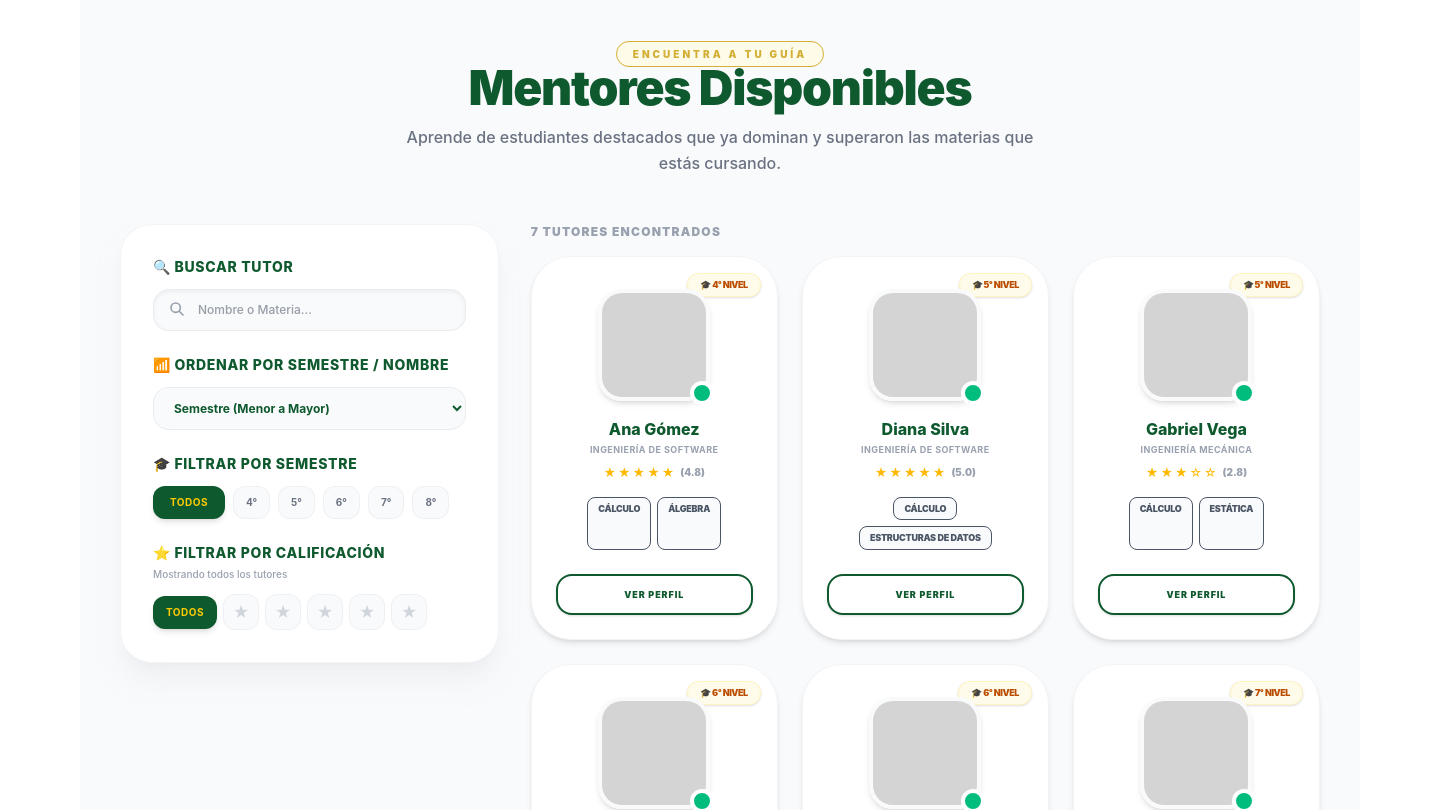
it: BuscarTutor Page Tests › filtra por semestre
Expected: the heading "Ana Gómez" is shown, [609,417,700,441]
Click on 7° level button
Click the button "7°" at (386, 502), box [368,486,404,519]
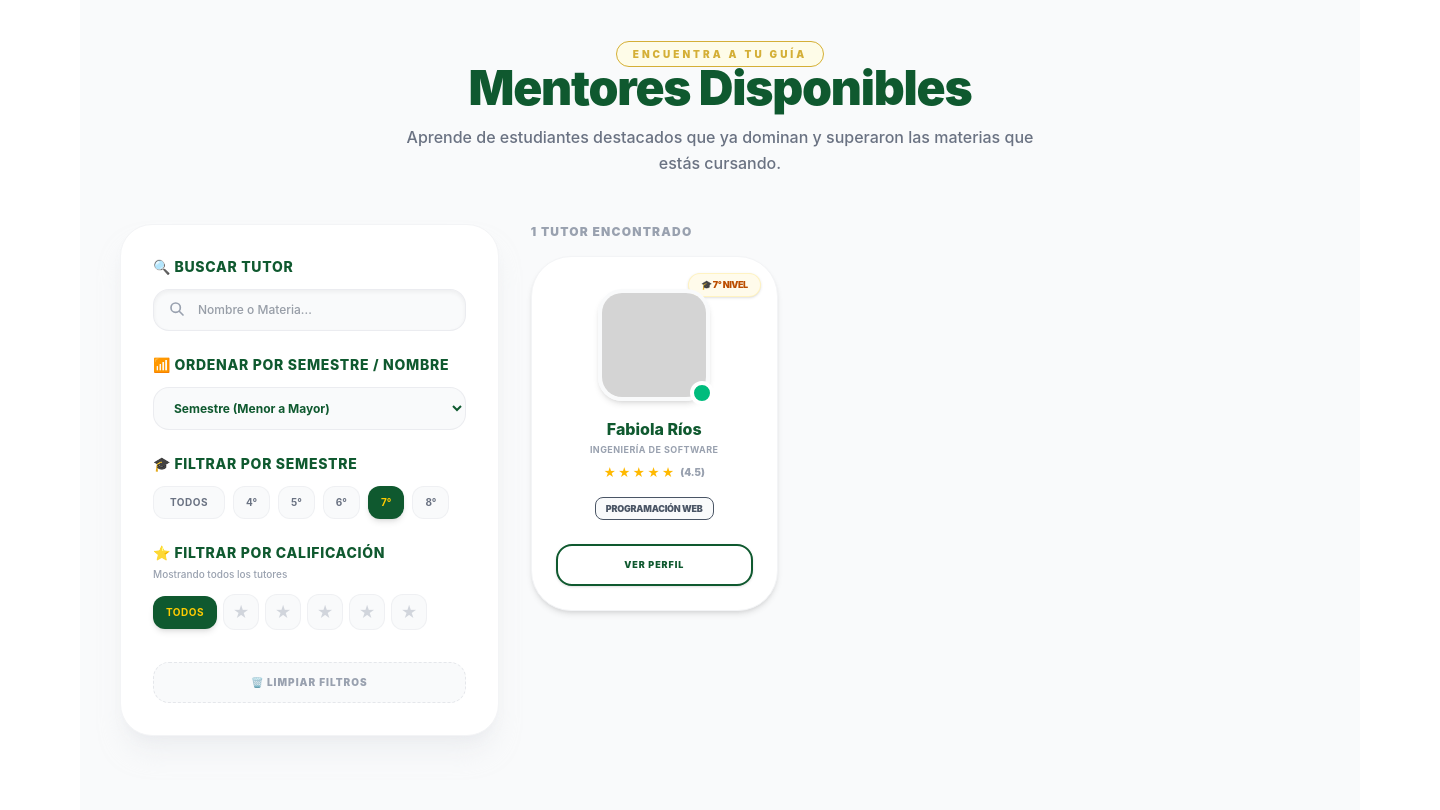
Expected: the heading "Fabiola Ríos" is shown, [607,417,702,441]
Expected: the heading "Ana Gómez" is gone
Click the button "Todos" below "🎓 Filtrar por Semestre" at (189, 502), box [153,486,225,519]
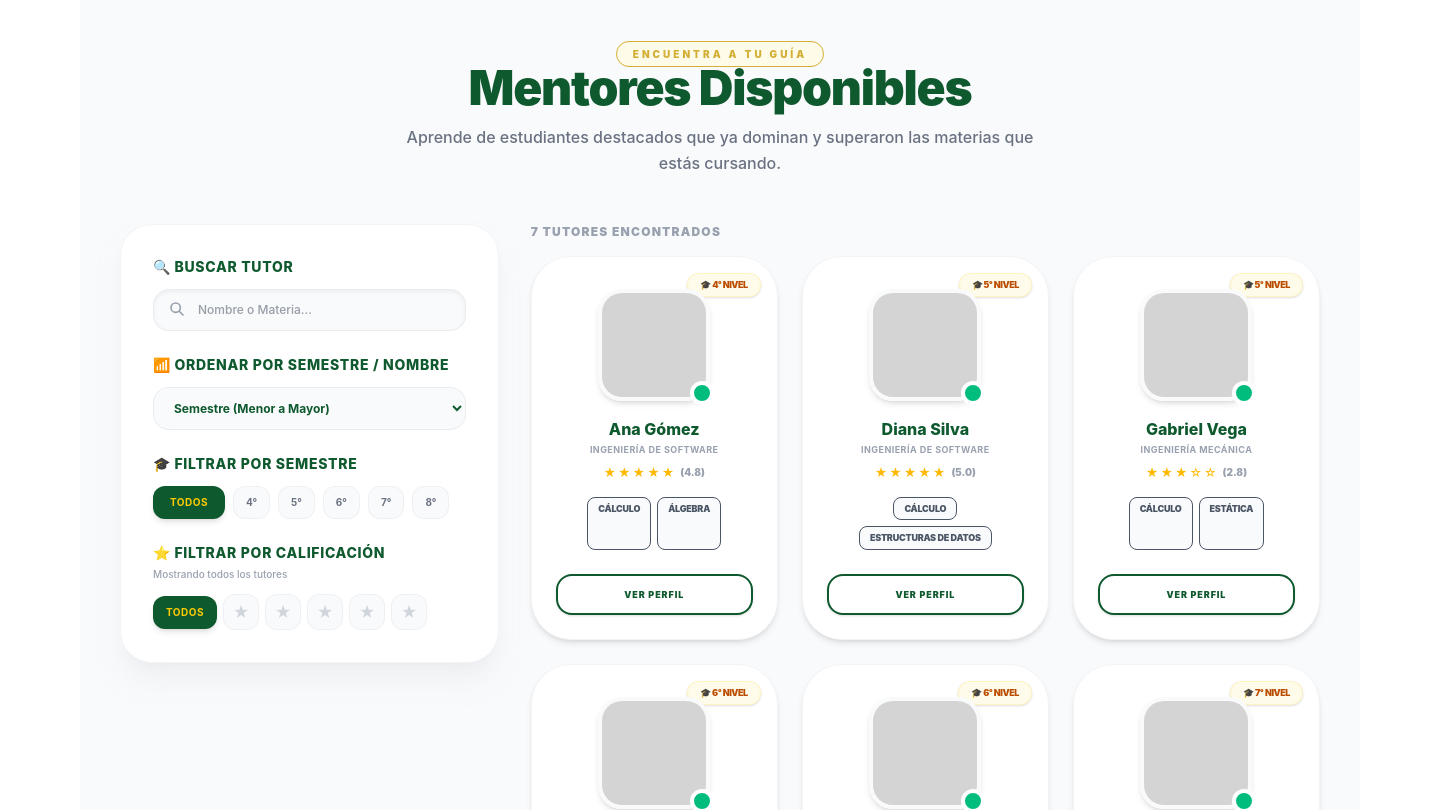
Expected: the heading "Ana Gómez" is shown, [609,417,700,441]
